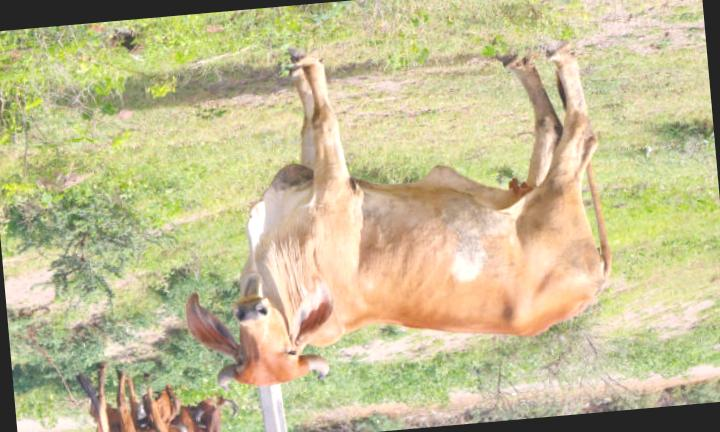Brahman: (188, 45, 612, 388)
